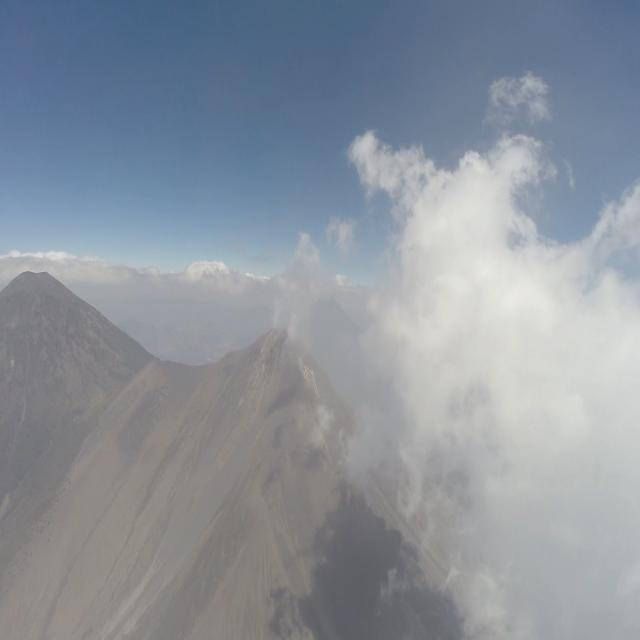Summit: (217, 323, 338, 406)
